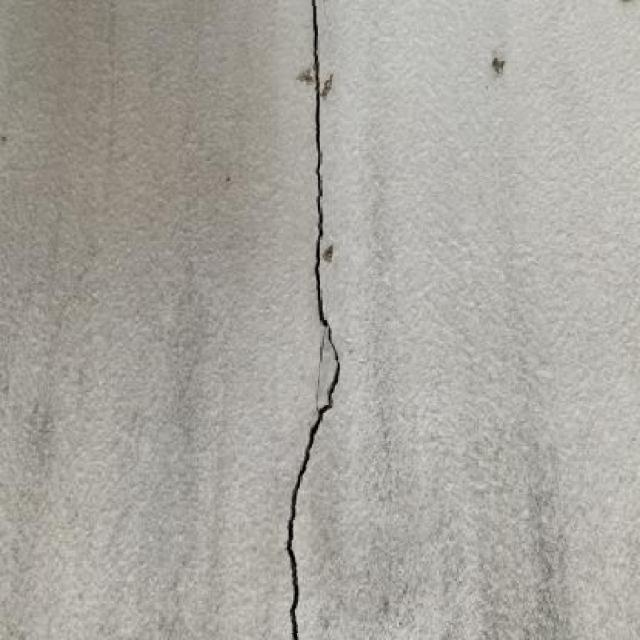vertical crack: (286, 7, 343, 633)
